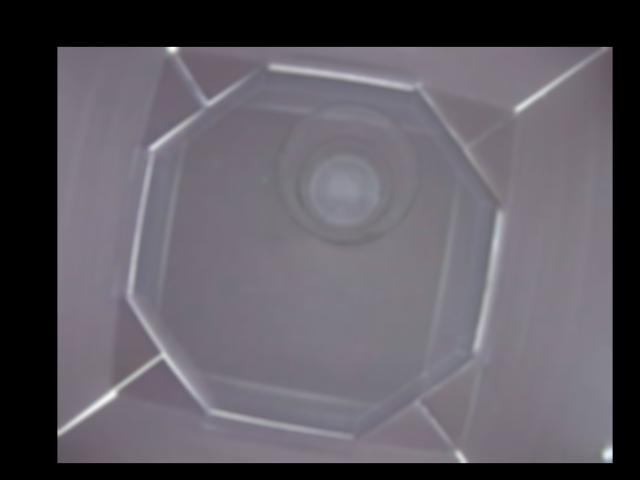Cup: (274, 102, 420, 247)
